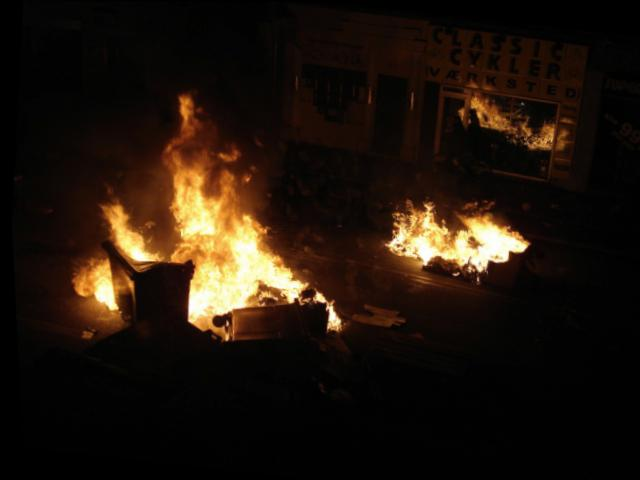fire: (45, 76, 363, 342), (383, 189, 531, 277)
